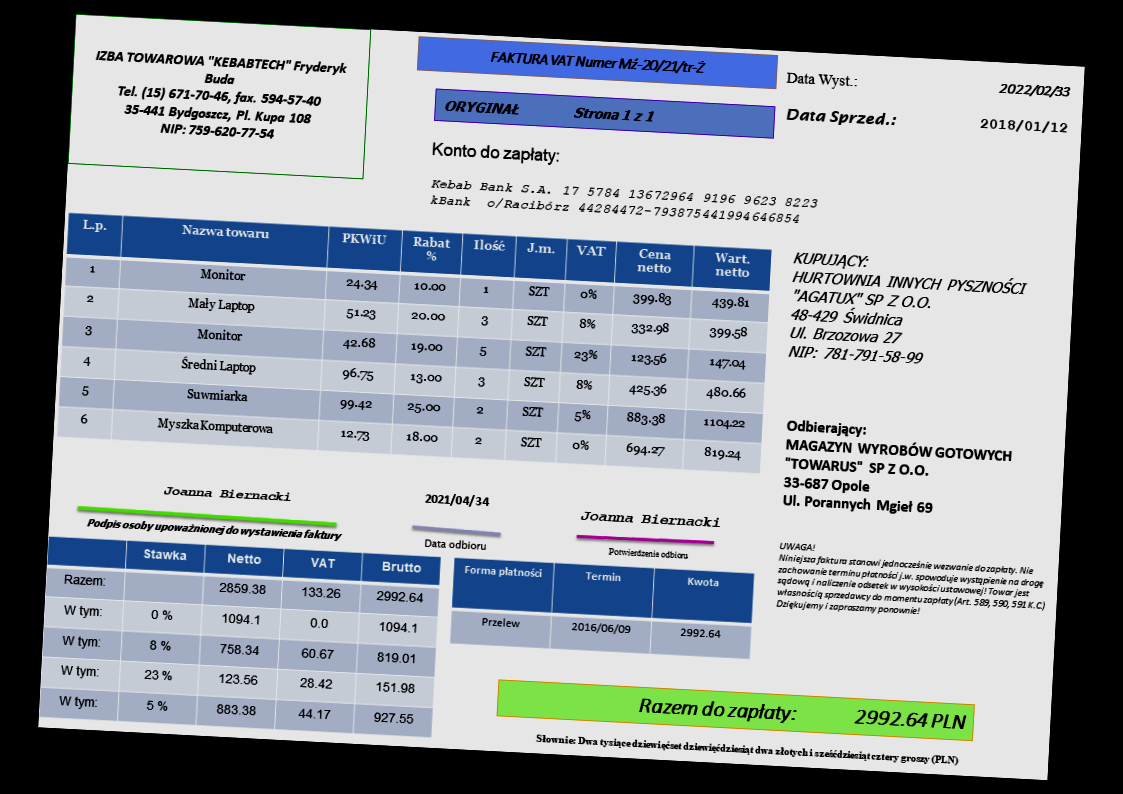Table: (55, 212, 773, 474), (40, 535, 443, 738), (449, 557, 755, 660)
TextBox: (786, 248, 1030, 373), (90, 47, 350, 147), (780, 417, 1015, 522), (774, 538, 1050, 624), (429, 176, 821, 228), (533, 731, 961, 768), (636, 695, 968, 735), (85, 514, 341, 543), (488, 48, 708, 77), (443, 96, 658, 124), (429, 139, 563, 168), (578, 508, 722, 531), (784, 104, 897, 131), (162, 483, 292, 505), (977, 114, 1070, 136), (995, 80, 1074, 100), (784, 69, 858, 90), (422, 490, 491, 511), (607, 545, 690, 561), (421, 537, 487, 553)
